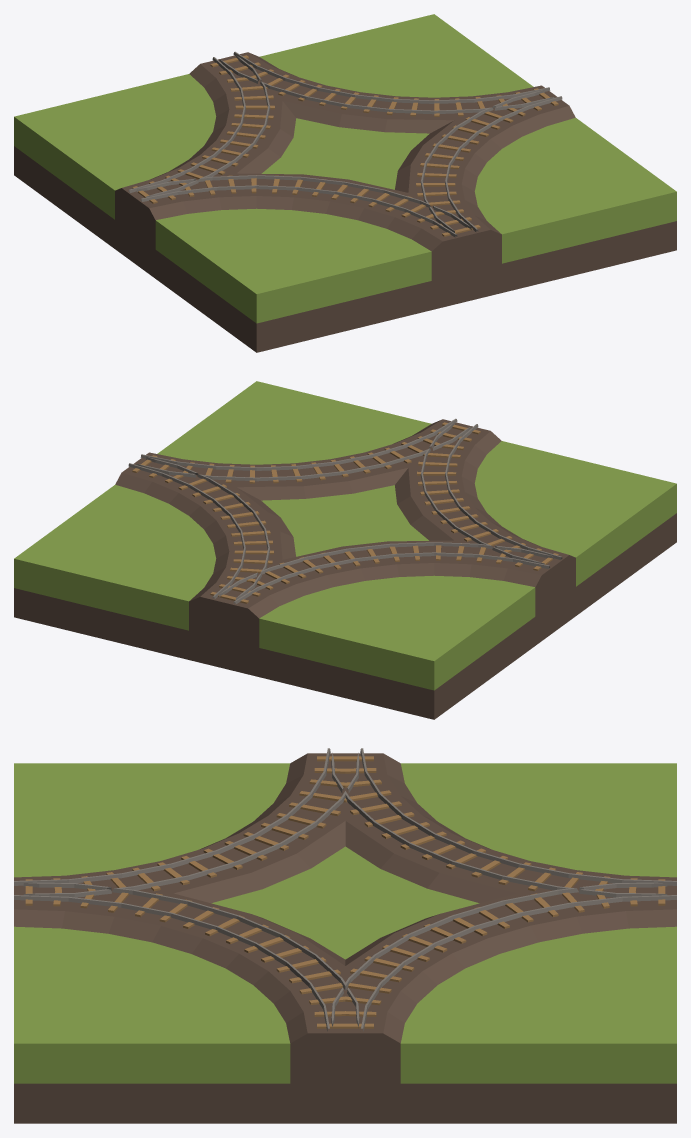
The model's file is rail-tile-intersection.fbx.
3 renders of one model, top to bottom at view 1: azimuth 30°, elevation 25°; view 2: azimuth 150°, elevation 25°; view 3: azimuth 270°, elevation 25°, orthographic. The views are drawn at different scales.
Visible parts, largest first — view 1: rail-tile-intersection; view 2: rail-tile-intersection; view 3: rail-tile-intersection.
Part boxes in pixels (x1,y1,x2,y2): rail-tile-intersection: [14, 14, 676, 352]; rail-tile-intersection: [14, 381, 676, 719]; rail-tile-intersection: [14, 748, 676, 1123].
Bounding box in the file's own units: 3000 × 475 × 3000.
